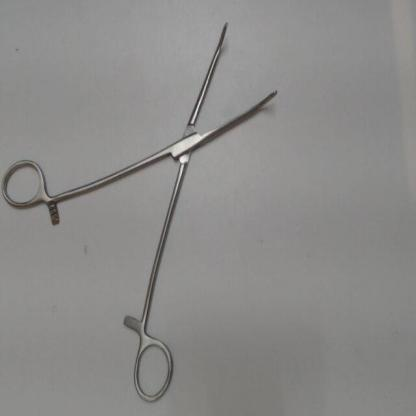Lahey Forceps: (1, 16, 285, 409)
